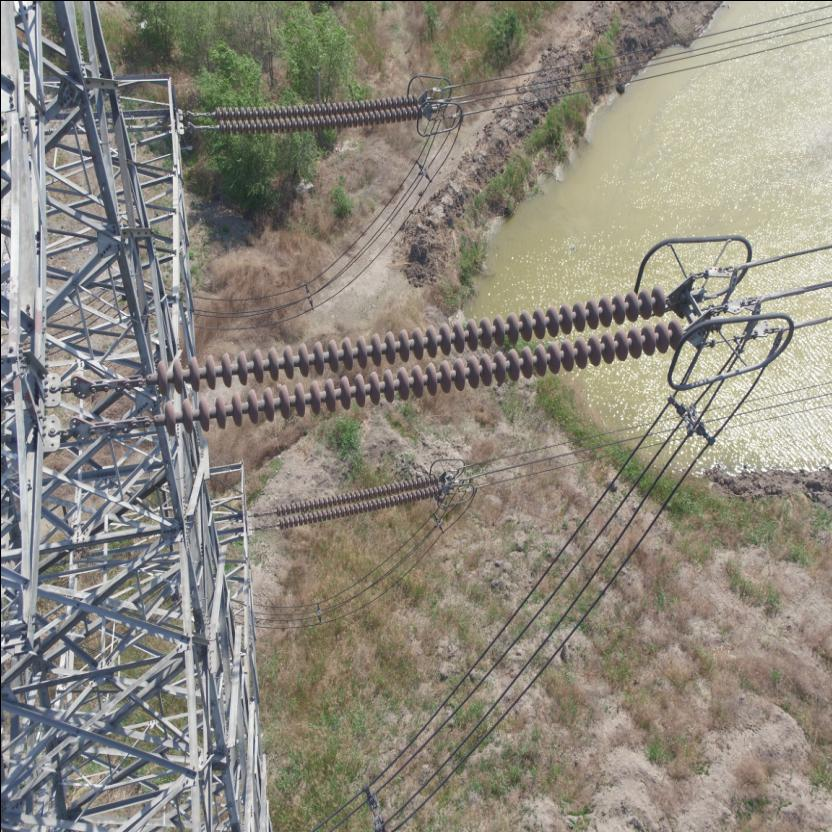insulator: (115, 276, 694, 440), (262, 470, 446, 530), (204, 86, 424, 133)
